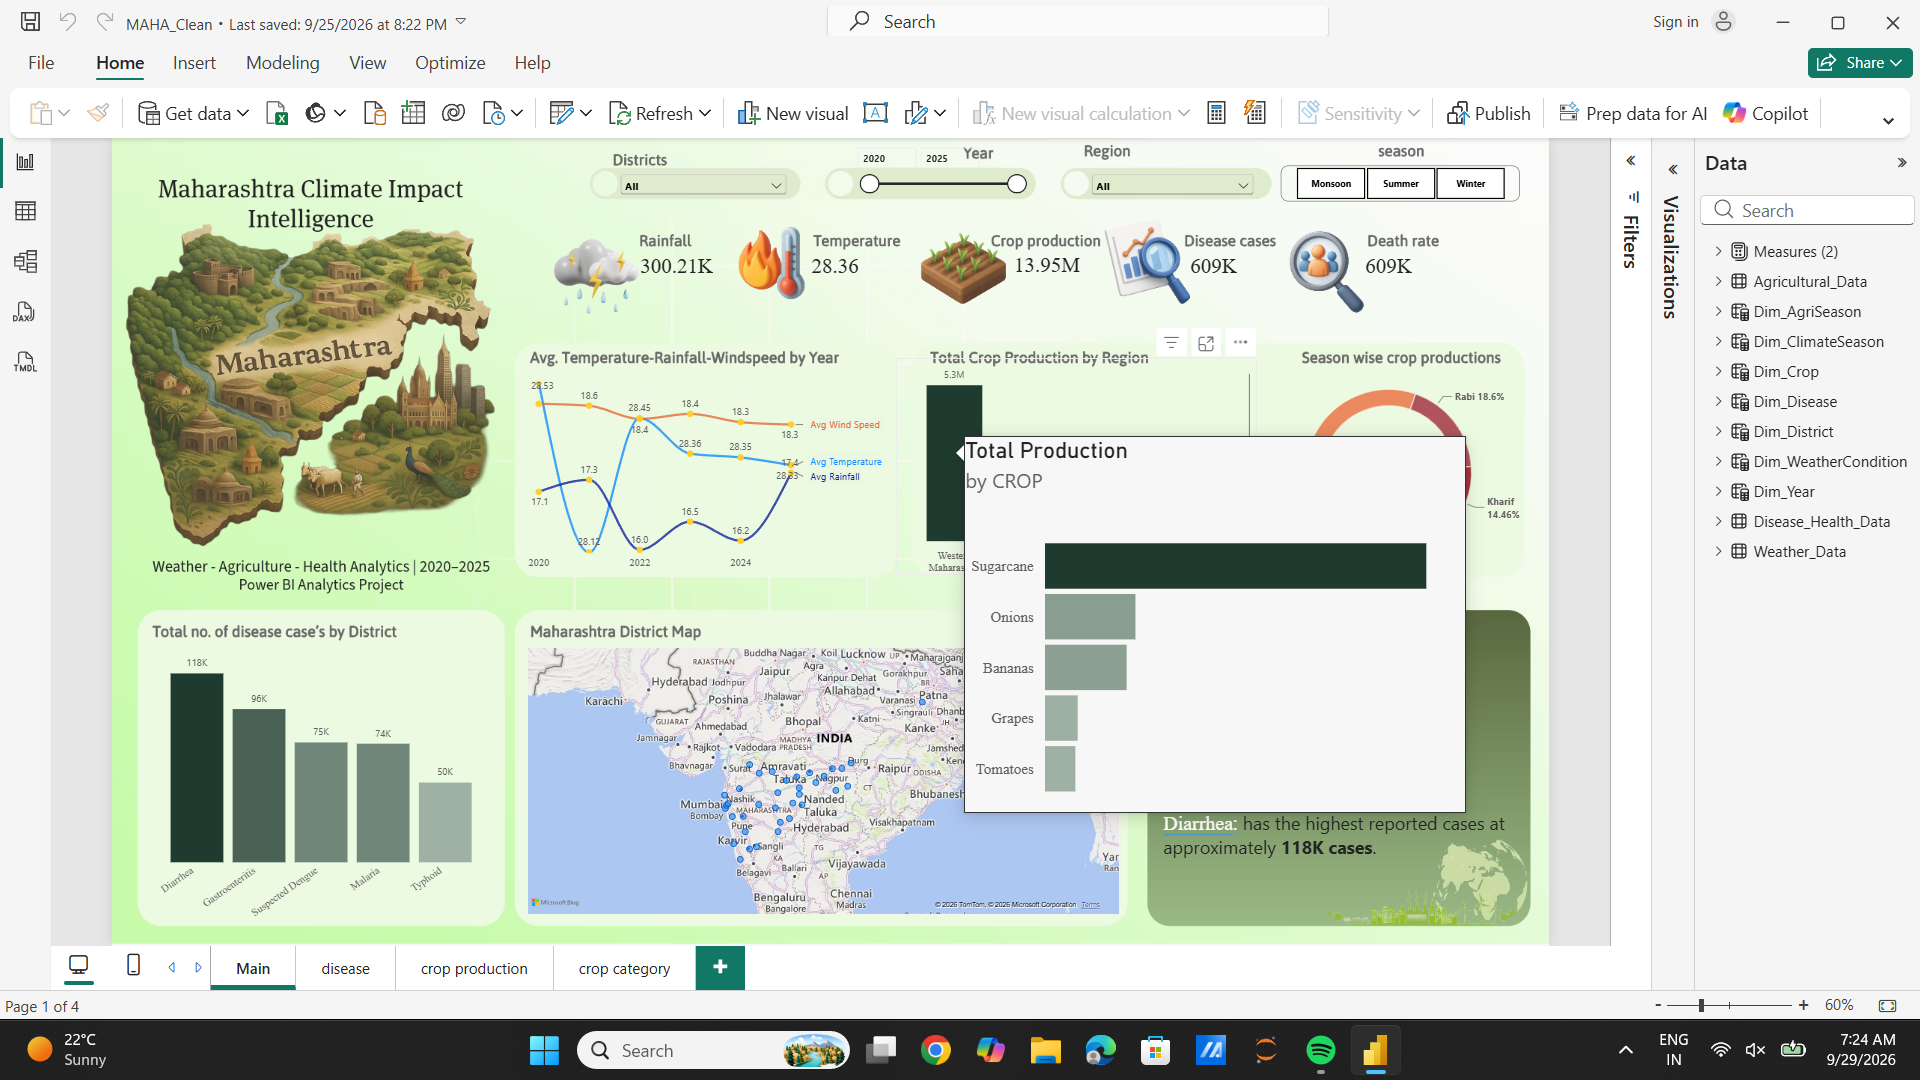

Layout of this report page (visuals, bound fields, positions):
{"tool":"powerbi","page":{"name":"Main","canvas":[1920,1080],"ordinal":0},"visuals":[{"type":"cardVisual","fields":{"Data":["Measures (2).Total Rainfall"]},"box":[689,117.8,143.2,106.8],"z":0},{"type":"cardVisual","fields":{"Data":["Measures (2).Avg Temperature"]},"box":[917.8,117.8,174.8,106.7],"z":1000},{"type":"cardVisual","fields":{"Data":["Measures (2).Total Production"]},"box":[1189.7,117.5,174.8,106.7],"z":2000},{"type":"cardVisual","fields":{"Data":["Measures (2).Total Cases"]},"box":[1424.4,117.8,209.4,106.6],"z":3000},{"type":"cardVisual","fields":{"Data":["Measures (2).Total Deaths"]},"box":[1658.1,117.7,174.8,106.7],"z":4000},{"type":"slicer","fields":{"Values":["Dim_District.District"]},"box":[674.6,44.1,231.4,41.5],"z":5000},{"type":"slicer","fields":{"Values":["Dim_Year.Year"]},"box":[988.1,8.5,236.4,77.1],"z":6000},{"type":"slicer","fields":{"Values":["Dim_District.Region"]},"box":[1304.2,44.1,225.4,41.5],"z":7000},{"type":"columnChart","fields":{"Category":["Dim_District.Region"],"Y":["dax demo.Total Production"]},"box":[1047.5,293.2,482.2,290.7],"z":8000},{"type":"lineChart","fields":{"Category":["Dim_Year.Year"],"Y":["Measures (2).Avg Temperature"],"Y2":["Measures (2).Avg Rainfall","Measures (2).Avg Wind Speed"]},"box":[555.8,316.6,480.4,261.4],"z":9000},{"type":"columnChart","fields":{"Y":["Measures (2).Total Cases"],"Category":["Disease_Health_Data.DISEASE"]},"box":[45.4,681.4,470.1,376.3],"z":10000},{"type":"slicer","fields":{"Values":["Disease_Health_Data.SEASON"]},"box":[1561.3,37.1,319.4,48.4],"z":11000},{"type":"donutChart","fields":{"Category":["Agricultural_Data.SEASON"],"Y":["Measures (2).Total Production"]},"box":[1529.5,276.1,351.5,342.3],"z":12000},{"type":"map","fields":{"Category":["Dim_District.District"]},"box":[556.7,681.4,788.7,354.6],"z":13000},{"type":"textbox","box":[1404.3,699.4,462,77.3],"z":14000},{"type":"textbox","box":[906,75,150,150],"z":15000},{"type":"textbox","box":[45,75,470,150],"z":16000},{"type":"textbox","box":[1404.3,776.7,462,117.8],"z":16001},{"type":"textbox","box":[1404.3,894.5,462,128.8],"z":16002}]}

Visuals, with their boxes on the page's 1920x1080 design canvas (x1, y1, x2, y2). These are canvas units, not pixel positions in the 1920x1080 screenshot, which may show the page scaled, cropped or inside an application window:
cardVisual - Measures (2).Total Rainfall: select_region(689, 118, 832, 225)
cardVisual - Measures (2).Avg Temperature: select_region(918, 118, 1093, 224)
cardVisual - Measures (2).Total Production: select_region(1190, 118, 1364, 224)
cardVisual - Measures (2).Total Cases: select_region(1424, 118, 1634, 224)
cardVisual - Measures (2).Total Deaths: select_region(1658, 118, 1833, 224)
slicer - Dim_District.District: select_region(675, 44, 906, 86)
slicer - Dim_Year.Year: select_region(988, 8, 1224, 86)
slicer - Dim_District.Region: select_region(1304, 44, 1530, 86)
columnChart - Dim_District.Region x dax demo.Total Production: select_region(1048, 293, 1530, 584)
lineChart - Dim_Year.Year x Measures (2).Avg Temperature: select_region(556, 317, 1036, 578)
columnChart - Measures (2).Total Cases x Disease_Health_Data.DISEASE: select_region(45, 681, 516, 1058)
slicer - Disease_Health_Data.SEASON: select_region(1561, 37, 1881, 86)
donutChart - Agricultural_Data.SEASON x Measures (2).Total Production: select_region(1530, 276, 1881, 618)
map - Dim_District.District: select_region(557, 681, 1345, 1036)
textbox: select_region(1404, 699, 1866, 777)
textbox: select_region(906, 75, 1056, 225)
textbox: select_region(45, 75, 515, 225)
textbox: select_region(1404, 777, 1866, 894)
textbox: select_region(1404, 894, 1866, 1023)
